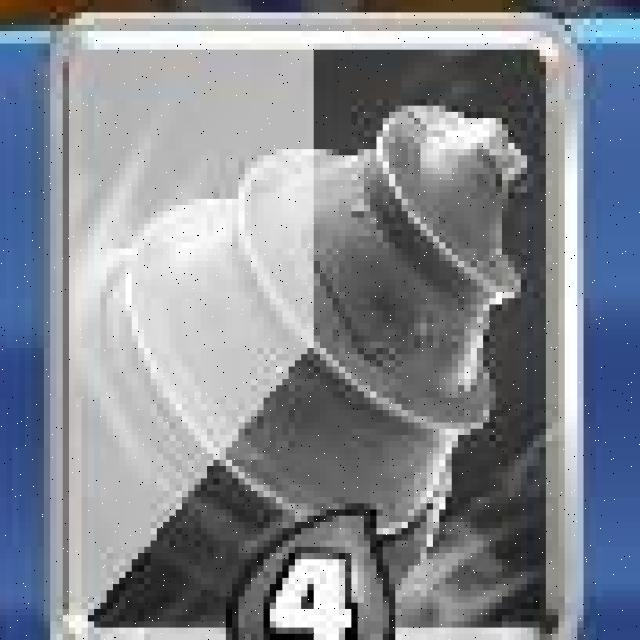Goblin_Drill: (53, 10, 582, 640)
